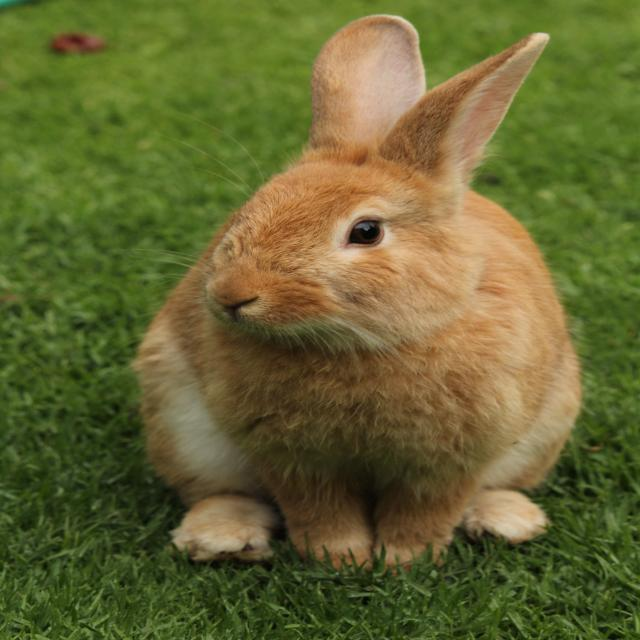animal: (132, 24, 584, 570)
